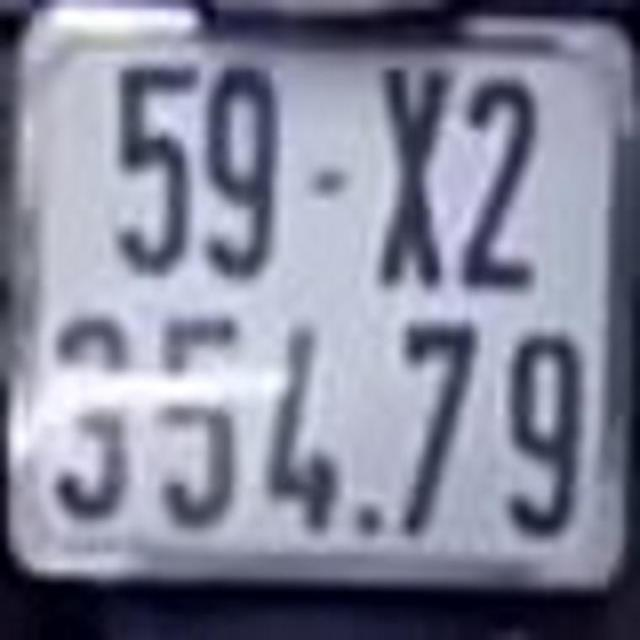2: (461, 62, 538, 294)
3: (50, 305, 130, 521)
4: (266, 314, 339, 549)
5: (154, 307, 241, 535), (114, 54, 196, 276)
7: (400, 312, 477, 535)
9: (502, 324, 582, 540), (202, 59, 279, 279)
X: (379, 60, 450, 295)
